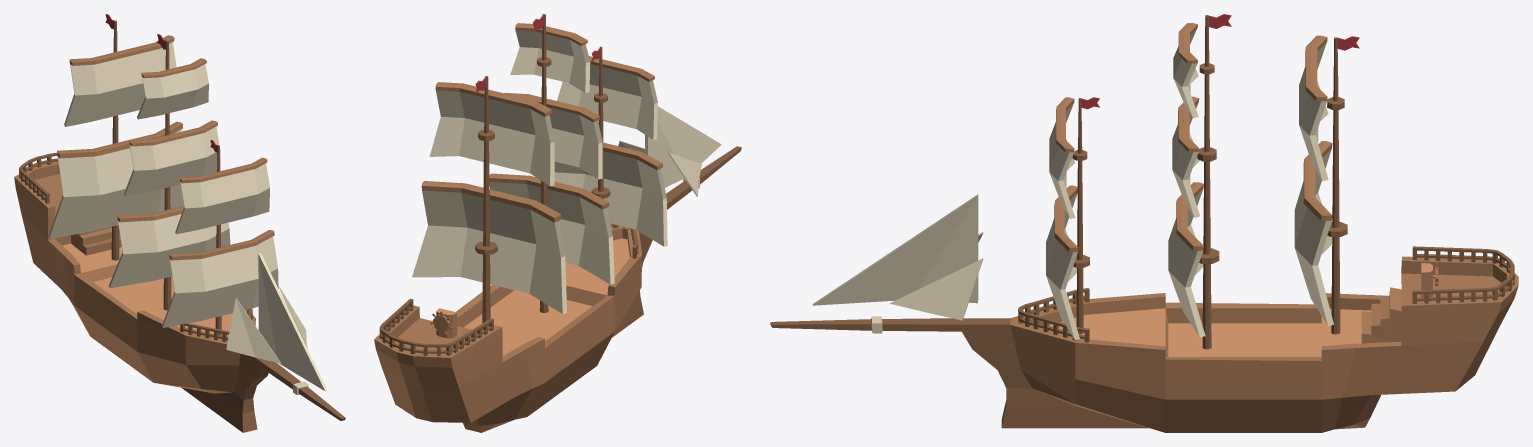
File: Sail Ship.glb
3 views of the same model, side by side, from view 1: azimuth 30°, elevation 25°; view 2: azimuth 150°, elevation 25°; view 3: azimuth 270°, elevation 25° (orthographic). The views are drawn at different scales.
Parts seen in each view (by area): view 1: BigShip, BackSail, MidleSail, Front Sail; view 2: BigShip, BackSail, MidleSail, Front Sail; view 3: BigShip, BackSail, MidleSail, Front Sail.
Boxes of the visible parts, x1,y1,x2,y2 form: BigShip: (14, 14, 345, 432); BackSail: (48, 35, 183, 238); MidleSail: (109, 58, 230, 288); Front Sail: (162, 157, 278, 327); BigShip: (374, 14, 741, 432); BackSail: (412, 82, 566, 313); MidleSail: (489, 23, 614, 284); Front Sail: (554, 56, 667, 246); BigShip: (770, 14, 1518, 432); BackSail: (1294, 35, 1333, 325); MidleSail: (1168, 23, 1205, 337); Front Sail: (1046, 97, 1079, 339).
Bounding box in the file's own units: 1.7 × 3.85 × 6.38.
